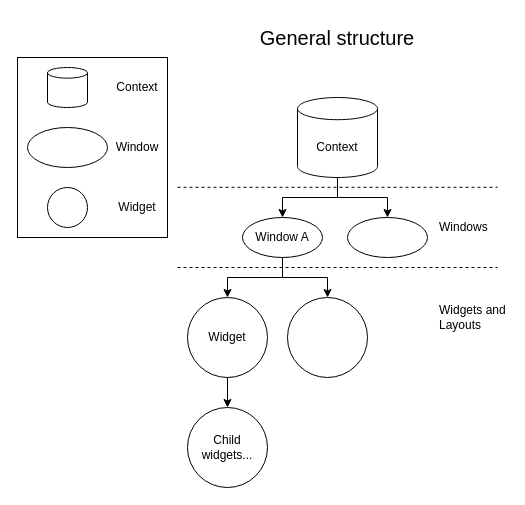
This 525x505 diagram has some shape labels left out. The shapes that lost their labels are listed below. From the top down, each one's centre as x and y in pixels, then its label:
point (387, 237): Window N...
point (327, 337): Widget N...
